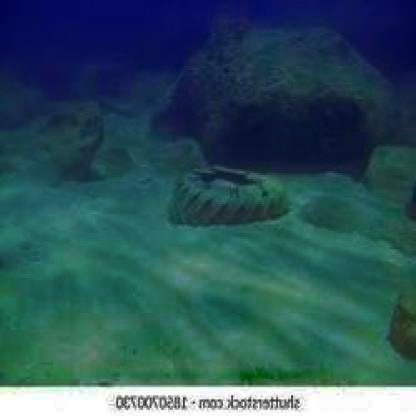tire: (172, 154, 284, 237)
